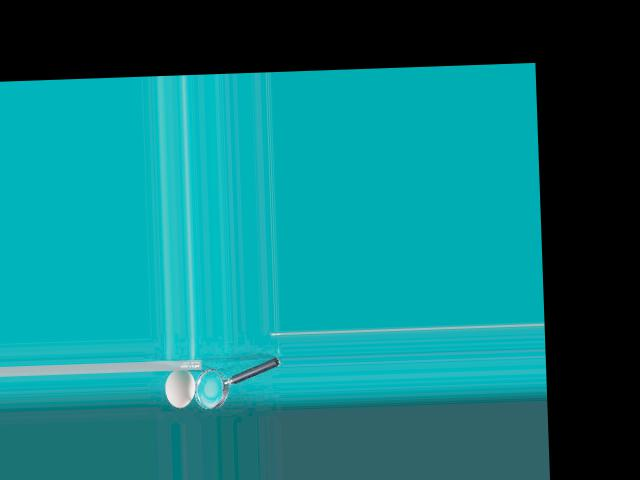egg: (163, 368, 195, 408)
